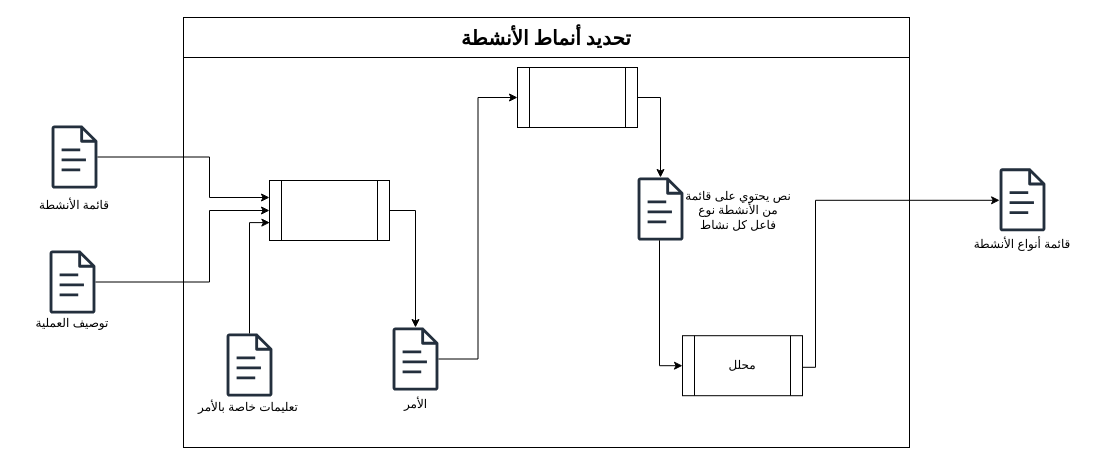
Some shapes in this 1094 by 465 pixel diagram are drawn without their labels. Each missing label, with the centre of its shape:
"باني الأمر" belongs at [329,210].
"نموذج لغوي" belongs at [577,97].
